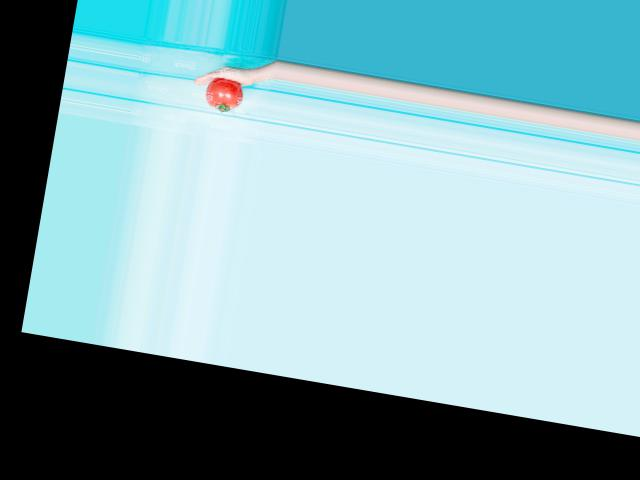tomato: (202, 75, 244, 113)
